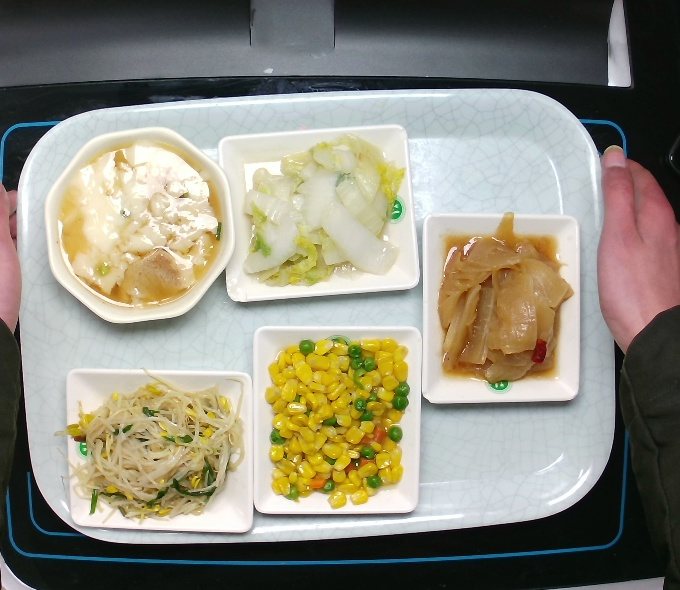wcq-DaBaiCai: (237, 133, 410, 289)
wcq-DongGua: (435, 209, 576, 389)
wcq-DouYa: (50, 366, 250, 527)
wcq-ShuiZhengDan: (51, 136, 226, 308)
wcq-TianMiTianDou: (263, 333, 414, 513)
